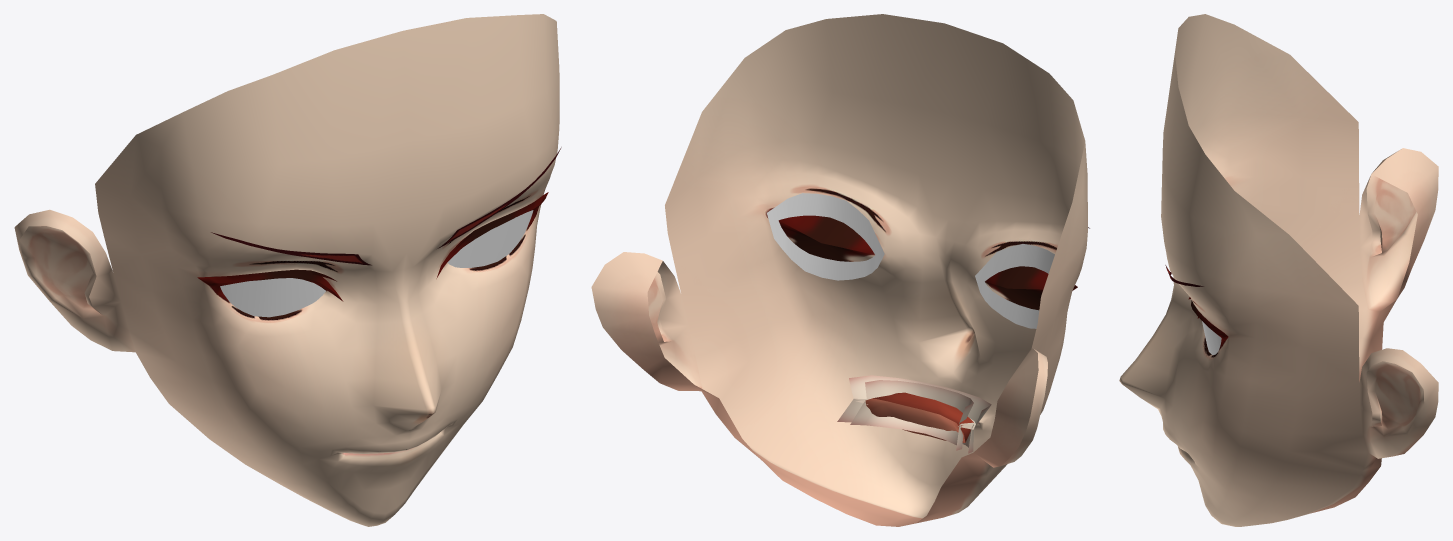
Rendered from Hiro.fbx.
The picture shows the model from 3 angles, left to right: view 1: azimuth 30°, elevation 25°; view 2: azimuth 150°, elevation 25°; view 3: azimuth 270°, elevation 25°; orthographic projection. The views are drawn at different scales.
Parts seen in each view (by area): view 1: M_Head, M_Eye_B_Def, M_Mth_B_Def, M_PupALL_R_A_Def, M_PupALL_L_A_Def, M_Brw_B_Def; view 2: M_Head, M_Eye_B_Def, M_Mth_B_Def, M_PupALL_L_A_Def, M_PupALL_R_A_Def; view 3: M_Head, M_Eye_B_Def, M_Mth_B_Def.
Boxes of the visible parts, <box> form: M_Head: <box>14,14,559,384</box>; M_Eye_B_Def: <box>130,130,559,414</box>; M_Mth_B_Def: <box>136,349,511,526</box>; M_PupALL_R_A_Def: <box>220,278,325,317</box>; M_PupALL_L_A_Def: <box>447,210,533,267</box>; M_Brw_B_Def: <box>211,147,561,265</box>; M_Head: <box>591,14,1087,467</box>; M_Eye_B_Def: <box>697,141,1087,412</box>; M_Mth_B_Def: <box>701,330,1042,526</box>; M_PupALL_L_A_Def: <box>767,193,884,280</box>; M_PupALL_R_A_Def: <box>975,244,1054,328</box>; M_Head: <box>1161,14,1438,458</box>; M_Eye_B_Def: <box>1119,114,1303,451</box>; M_Mth_B_Def: <box>1121,309,1383,526</box>.
Bounding box in the file's own units: 0.1745 × 0.1749 × 0.1075.
Materials: 5 (3 with a texture image).
